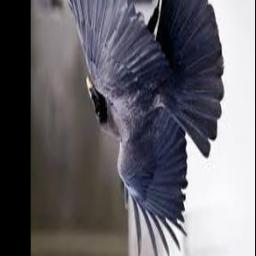Crow: (48, 0, 224, 256)
